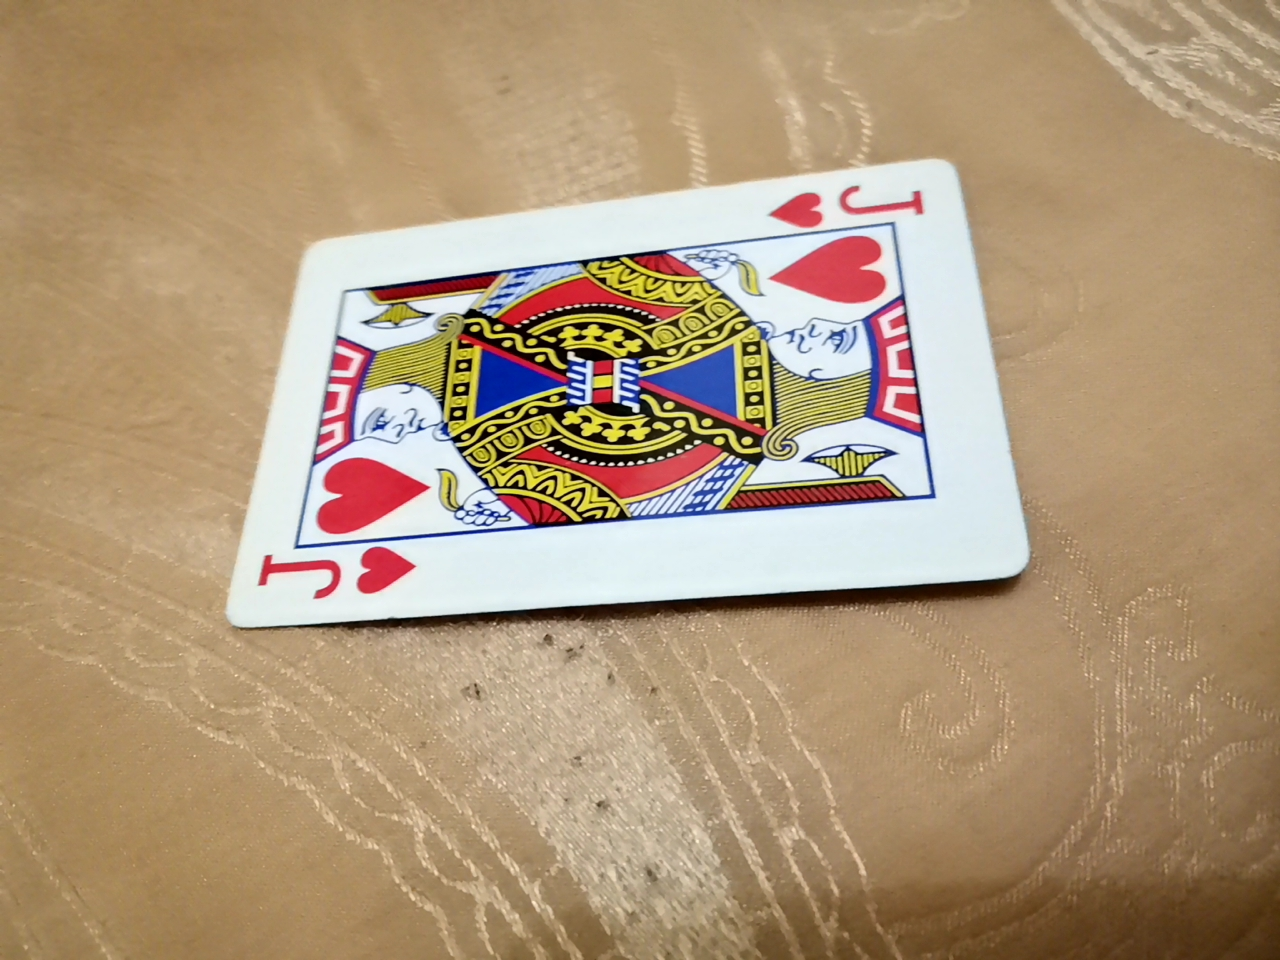hx j: (250, 160, 1048, 621)
